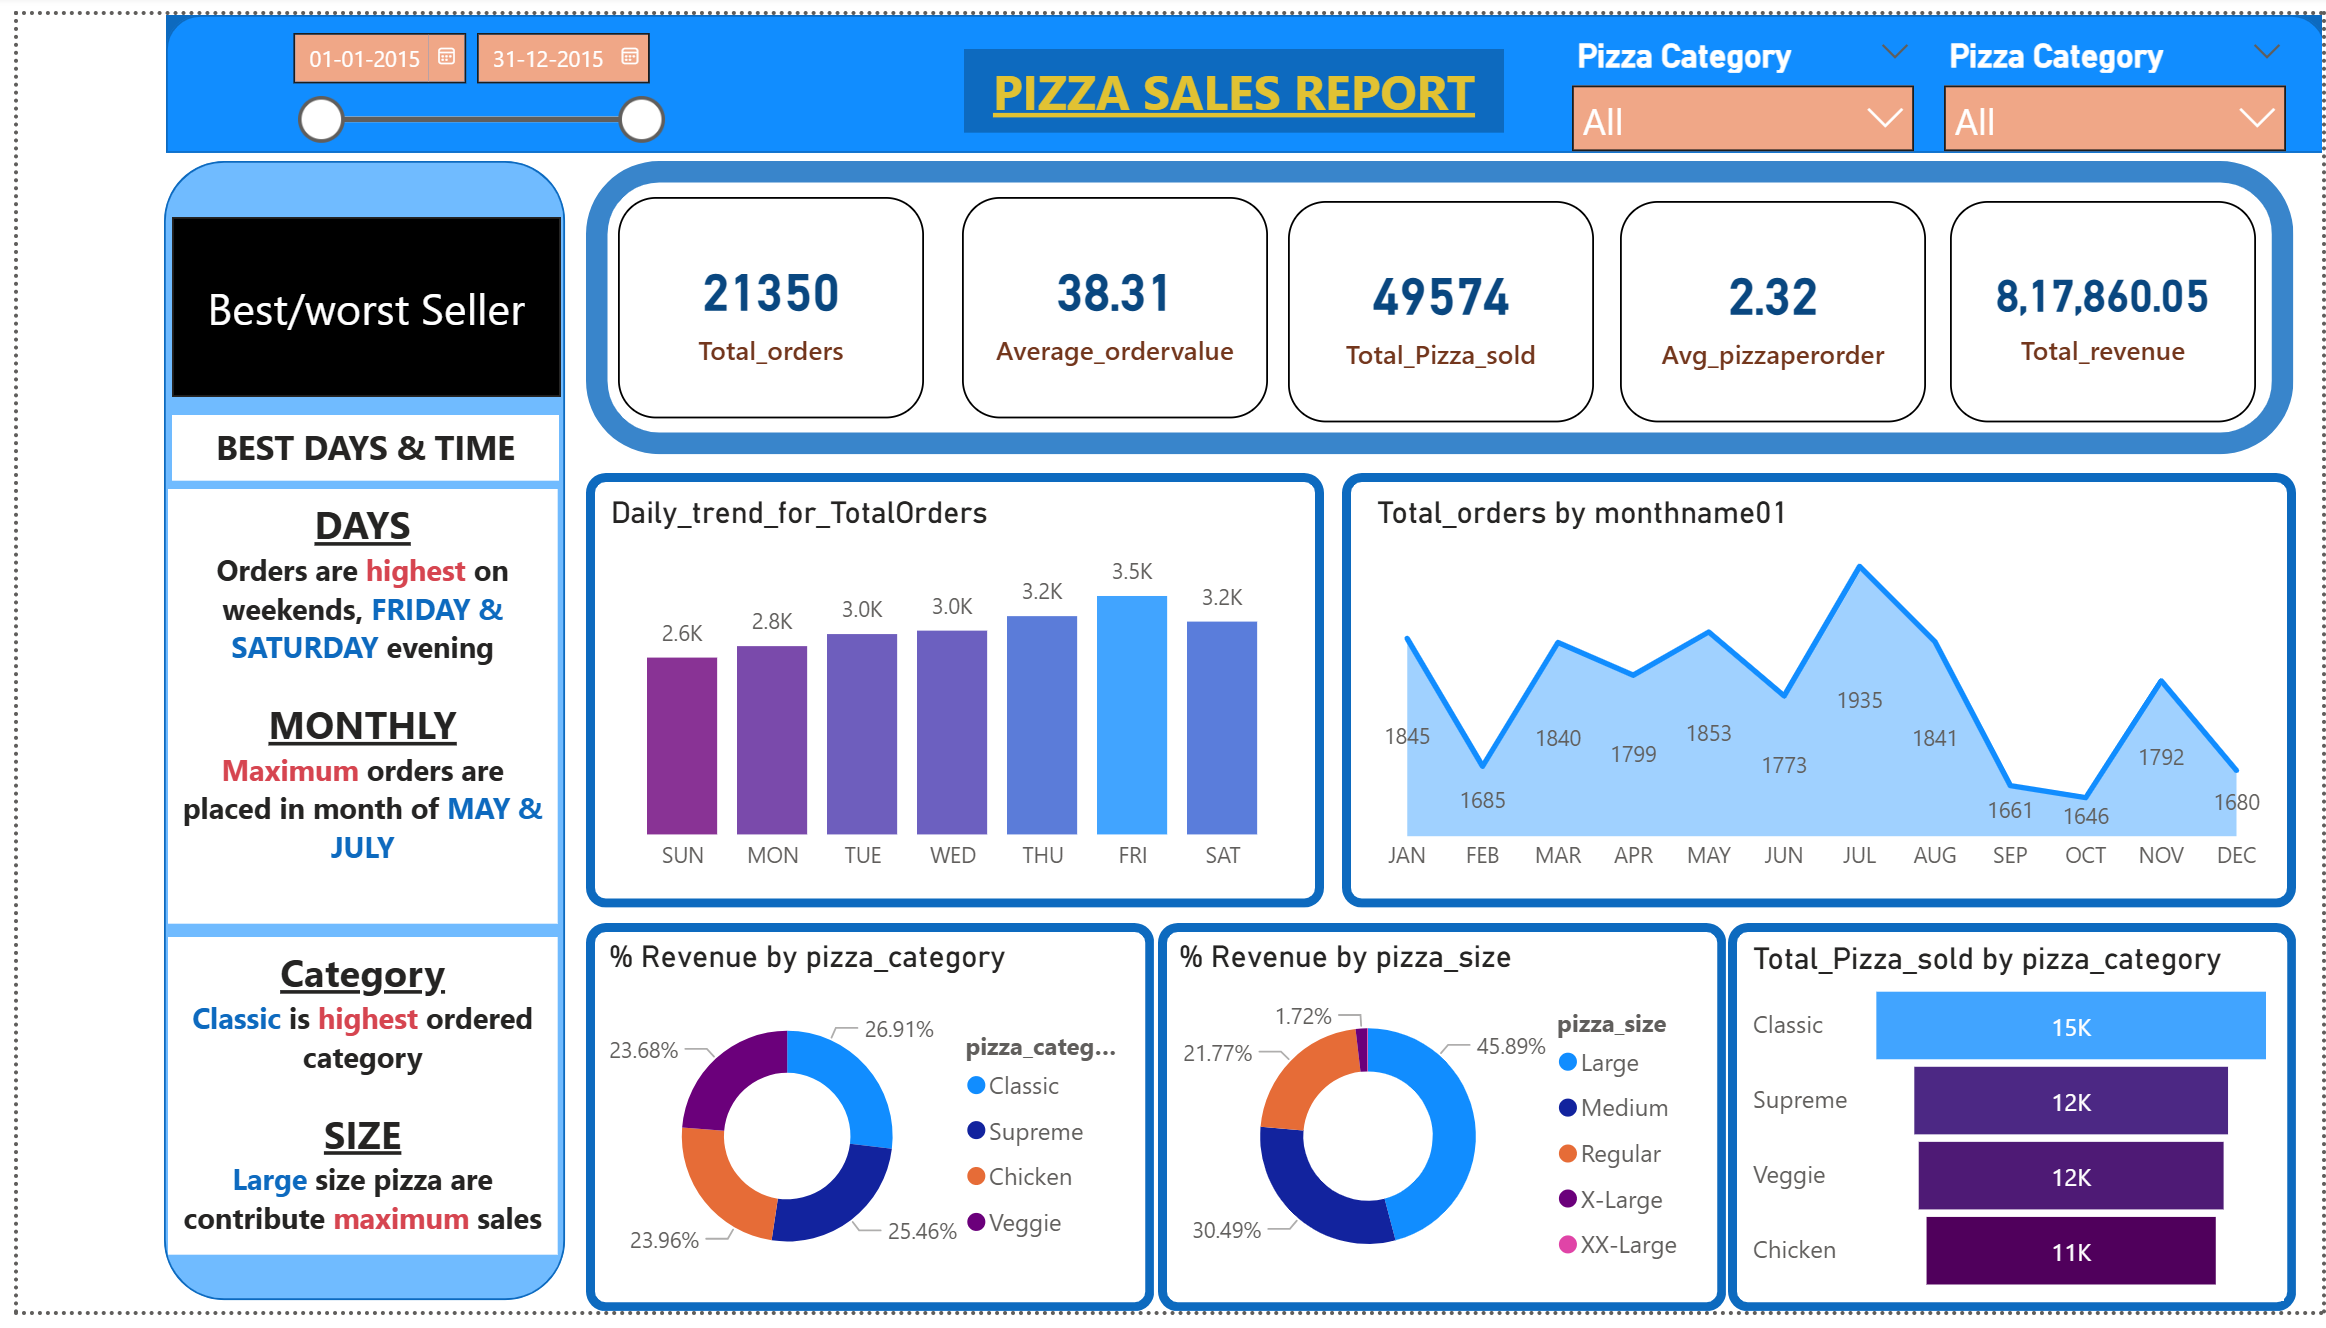

The dashboard page shown, as its layout file describes it:
{"tool":"powerbi","page":{"name":"HOME","canvas":[1280,720],"ordinal":0},"visuals":[{"type":"shape","box":[81.7,0,1200,76.7],"z":0},{"type":"shape","box":[315.7,81.4,948.6,162.9],"z":1000},{"type":"card","fields":{"Values":["pizza_sales.Total_orders"]},"box":[332.9,101.4,170,122.9],"z":2000},{"type":"card","fields":{"Values":["pizza_sales.Total_Pizza_sold"]},"box":[705.7,102.9,170,122.9],"z":3000},{"type":"card","fields":{"Values":["pizza_sales.Average_ordervalue"]},"box":[524.3,101.4,170,122.9],"z":4000},{"type":"card","title":"Avg_pizzaperorder","fields":{"Values":["pizza_sales.Average_pizzaperorder"]},"box":[890,102.9,170,122.9],"z":5000},{"type":"card","fields":{"Values":["pizza_sales.Total_revenue"]},"box":[1072.9,102.9,170,122.9],"z":6000},{"type":"shape","box":[315.7,254.3,410,241.4],"z":7000},{"type":"columnChart","title":"Daily_trend_for_TotalOrders","fields":{"Category":["pizza_sales.orderday"],"Y":["pizza_sales.Total_orders"]},"box":[324.3,267.1,390,218.6],"z":8000},{"type":"shape","box":[735.7,254.3,530,241.4],"z":9000},{"type":"stackedAreaChart","fields":{"Category":["pizza_sales.monthname01"],"Y":["pizza_sales.Total_orders"]},"box":[750,267.1,504.3,218.6],"z":10000},{"type":"shape","box":[315.7,504.3,315.7,215.7],"z":11000},{"type":"donutChart","title":"% Revenue by pizza_category","fields":{"Y":["pizza_sales.Total_revenue"],"Category":["pizza_sales.pizza_category"]},"box":[322.9,512.9,300,200],"z":12000},{"type":"shape","box":[950,504.3,315.7,215.7],"z":13000},{"type":"shape","box":[632.9,504.3,315.7,215.7],"z":14000},{"type":"donutChart","title":"    % Revenue by pizza_size","fields":{"Y":["pizza_sales.Total_revenue"],"Category":["pizza_sales.pizza_size"]},"box":[640,512.9,300,200],"z":15000},{"type":"funnel","fields":{"Category":["pizza_sales.pizza_category"],"Y":["pizza_sales.Total_Pizza_sold"]},"box":[958.6,514.3,300,200],"z":16000},{"type":"shape","box":[81.4,81.4,222.9,632.9],"z":17000},{"type":"textbox","box":[85,222.5,215,36.2],"z":18000},{"type":"textbox","box":[83.8,263.8,216.2,241.2],"z":19000},{"type":"textbox","box":[83.8,512.5,216.2,176.2],"z":20000},{"type":"slicer","fields":{"Values":["pizza_sales.pizza_category"]},"box":[853.6,6.4,210,70.7],"z":21000},{"type":"slicer","fields":{"Values":["pizza_sales.pizza_size"]},"box":[1060,6.4,210,70.7],"z":22000},{"type":"textbox","box":[525,18.3,300,46.7],"z":23000},{"type":"pageNavigator","box":[85,112.5,216.2,100],"z":26001},{"type":"slicer","fields":{"Values":["pizza_sales.order_date"]},"box":[140,0,227.5,76.7],"z":26002}]}

Visuals, with their boxes in screenshot pixels (x1, y1, x2, y2), scaled from the page's 1280x720 canvas onto the 2326x1328 screenshot:
shape: crop(148, 0, 2325, 141)
shape: crop(574, 150, 2297, 451)
card - pizza_sales.Total_orders: crop(605, 187, 914, 414)
card - pizza_sales.Total_Pizza_sold: crop(1282, 190, 1591, 416)
card - pizza_sales.Average_ordervalue: crop(953, 187, 1262, 414)
"Avg_pizzaperorder" card: crop(1617, 190, 1926, 416)
card - pizza_sales.Total_revenue: crop(1950, 190, 2259, 416)
shape: crop(574, 469, 1319, 914)
"Daily_trend_for_TotalOrders" columnChart: crop(589, 493, 1298, 896)
shape: crop(1337, 469, 2300, 914)
stackedAreaChart - pizza_sales.monthname01 x pizza_sales.Total_orders: crop(1363, 493, 2279, 896)
shape: crop(574, 930, 1147, 1327)
"% Revenue by pizza_category" donutChart: crop(587, 946, 1132, 1315)
shape: crop(1726, 930, 2300, 1327)
shape: crop(1150, 930, 1724, 1327)
"    % Revenue by pizza_size" donutChart: crop(1163, 946, 1708, 1315)
funnel - pizza_sales.pizza_category x pizza_sales.Total_Pizza_sold: crop(1742, 949, 2287, 1317)
shape: crop(148, 150, 553, 1317)
textbox: crop(154, 410, 545, 477)
textbox: crop(152, 487, 545, 931)
textbox: crop(152, 945, 545, 1270)
slicer - pizza_sales.pizza_category: crop(1551, 12, 1933, 142)
slicer - pizza_sales.pizza_size: crop(1926, 12, 2308, 142)
textbox: crop(954, 34, 1499, 120)
pageNavigator: crop(154, 208, 547, 392)
slicer - pizza_sales.order_date: crop(254, 0, 668, 141)
